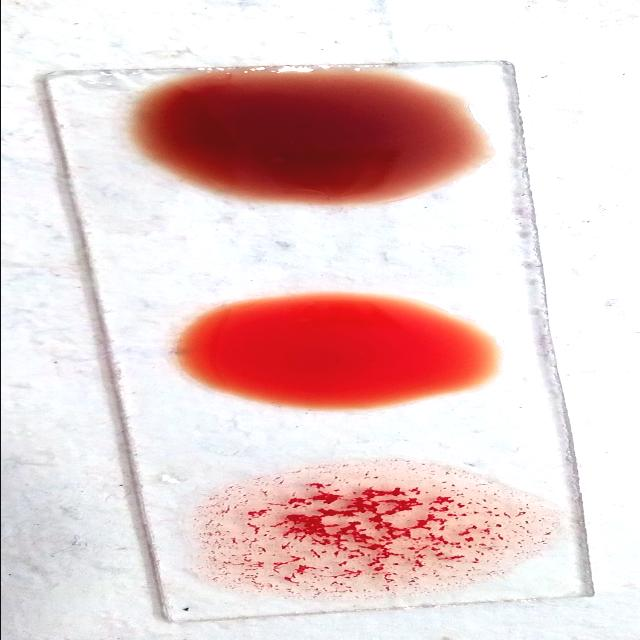D: (198, 468, 562, 594)
